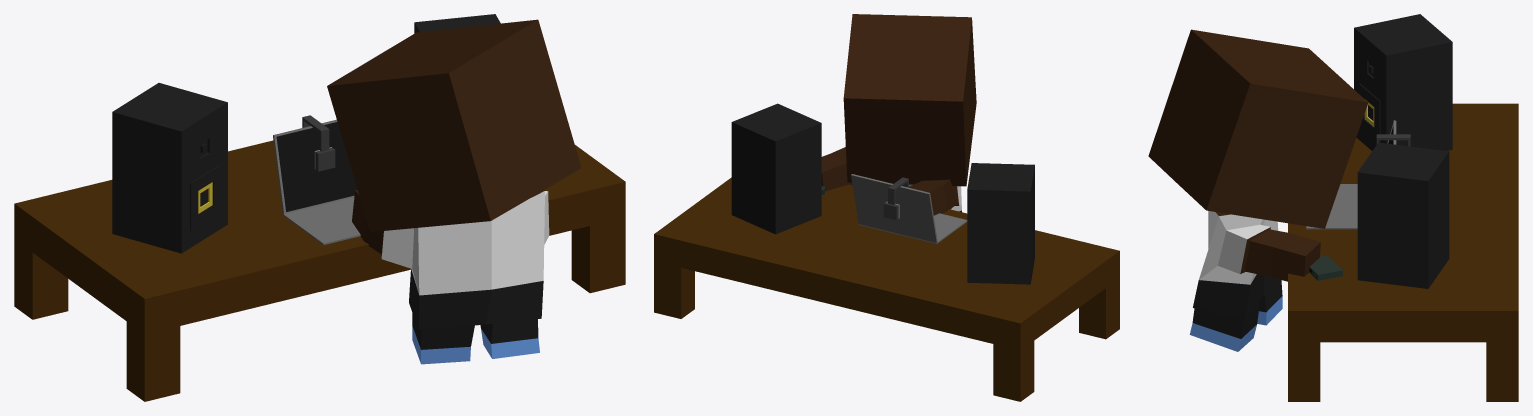
File: Music Workstation.gltf
3 renders of one model, left to right at view 1: azimuth 30°, elevation 25°; view 2: azimuth 150°, elevation 25°; view 3: azimuth 270°, elevation 25°, orthographic. The views are drawn at different scales.
Visible parts, largest first — view 1: Cube, Table, Speaker Left, Laptop, Speaker Right, Headphones; view 2: Table, Cube, Speaker Right, Speaker Left, Laptop, Headphones; view 3: Cube, Table, Speaker Right, Speaker Left, Laptop, Mixer.
Boxes of the visible parts, box(x1,y1,x2,y2) form: Cube: box(327, 19, 581, 364); Table: box(14, 140, 625, 401); Speaker Left: box(112, 83, 227, 253); Laptop: box(273, 119, 360, 245); Speaker Right: box(414, 14, 500, 33); Headphones: box(302, 115, 335, 171); Table: box(654, 177, 1119, 401); Cube: box(821, 14, 976, 215); Speaker Right: box(731, 103, 821, 234); Speaker Left: box(967, 163, 1034, 284); Laptop: box(851, 174, 967, 243); Headphones: box(883, 177, 908, 220); Cube: box(1148, 29, 1368, 351); Table: box(1288, 103, 1518, 401); Speaker Right: box(1357, 142, 1449, 288); Speaker Left: box(1354, 14, 1452, 150); Laptop: box(1306, 120, 1396, 229); Mixer: box(1309, 255, 1342, 280).
Size of the model in its own units: 3.01 by 1.88 by 2.27.
